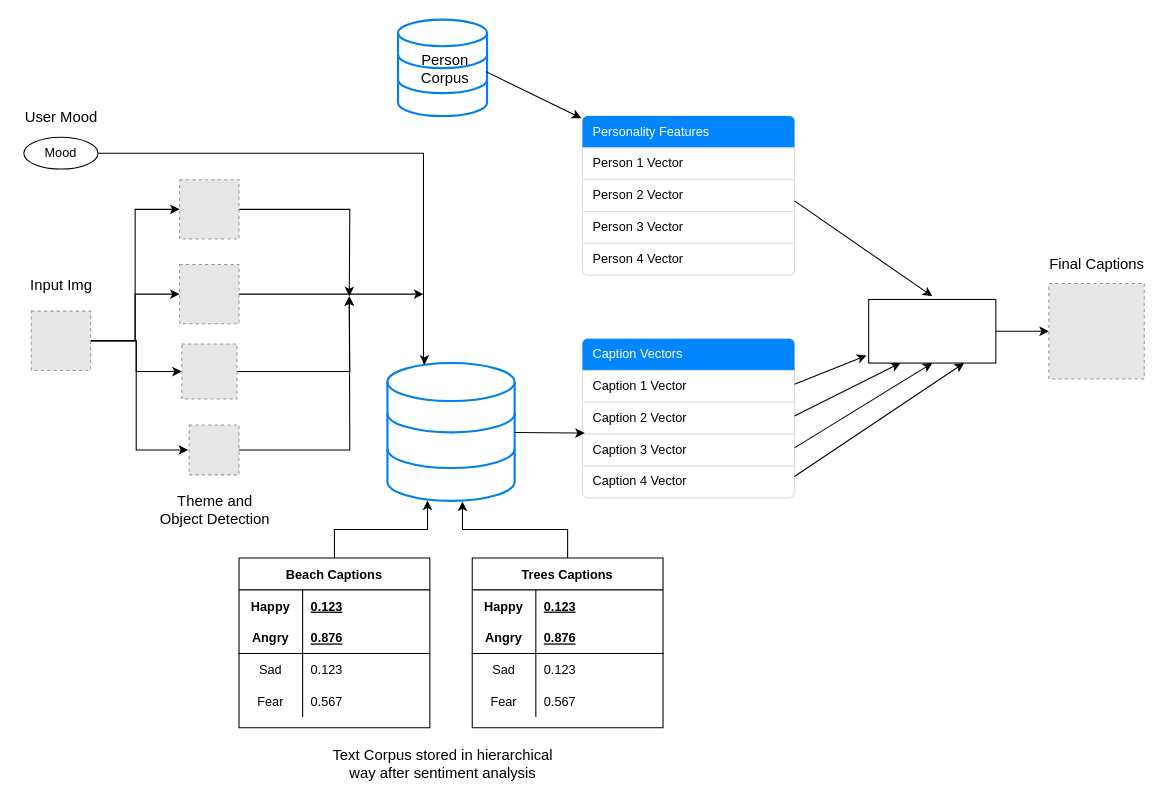
This 1172x802 diagram has some shape labels left out. Grey dashed boxes stand in for pictures. The centre of each missing label's shape, as x and y in pixels:
"Classified Captions Corpus" belongs at [450,431].
"Selecting Most relevant captions" belongs at [932,330].
